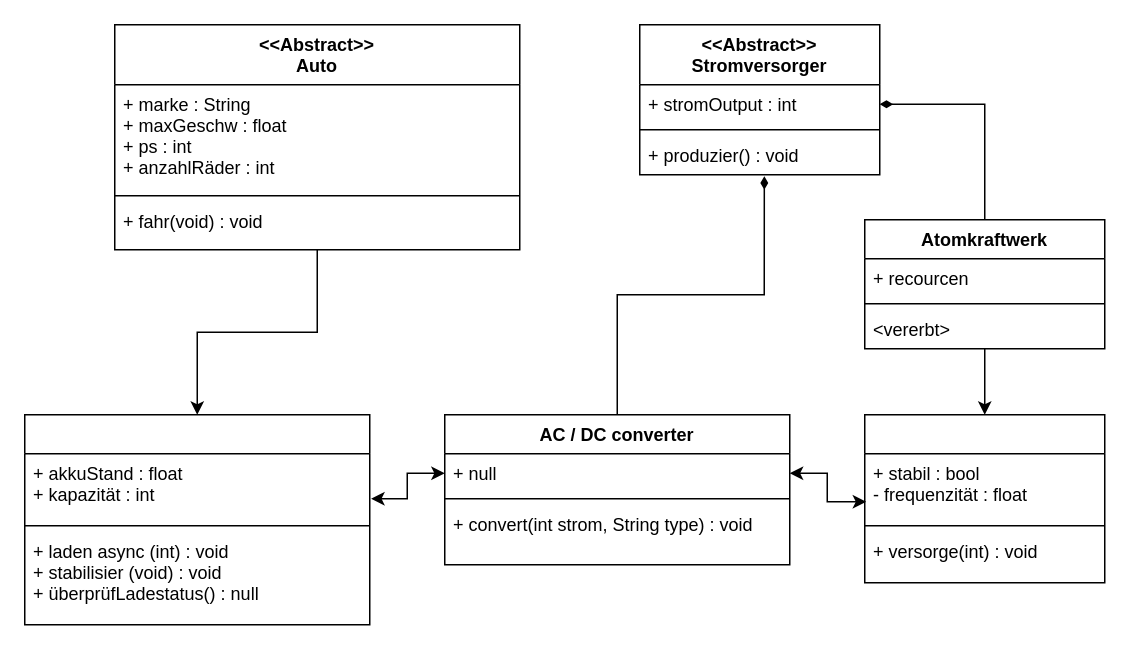
The diagram is 1130 pixels wide and 650 high, and some of its shapes have lost their labels. The box of each missing label's shape, as (x1, y1, x2, y2) in pixels:
Elektroauto: (23, 413, 370, 625)
Netzwerk: (863, 413, 1105, 583)
